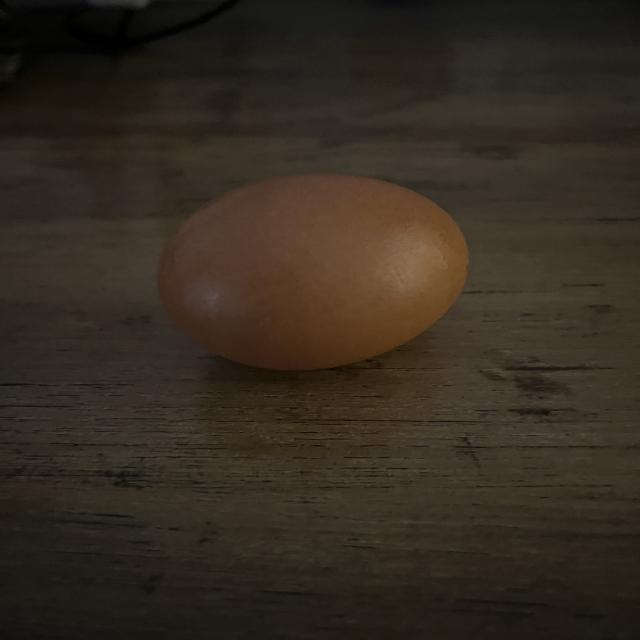Egg: (156, 159, 478, 381)
